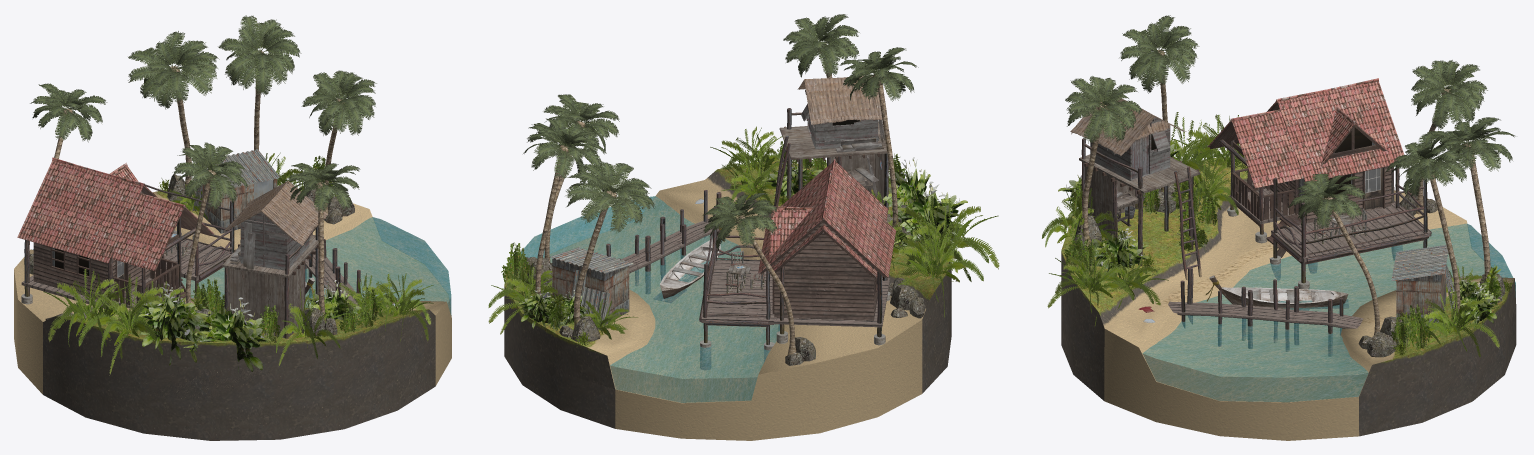
3 views of the same model, side by side, from view 1: azimuth 30°, elevation 25°; view 2: azimuth 150°, elevation 25°; view 3: azimuth 270°, elevation 25° (orthographic). The views are drawn at different scales.
Parts seen in each view (by area): view 1: G_Groundplane, G_House, G_Vegetation, G_WorkshopHut, G_Water, G_Tree6, G_Tree5, G_Tree4, G_Tree2, G_Tree3, G_StorageShed, G_Tree1 (+2 smaller); view 2: G_Groundplane, G_House, G_Water, G_Vegetation, G_WorkshopHut, G_Tree6, G_Tree5, G_Tree1, G_Tree2, G_StorageShed, G_Tree3, G_Rocks (+4 smaller); view 3: G_Groundplane, G_House, G_Water, G_Vegetation, G_WorkshopHut, G_Bridge, G_Tree3, G_Tree2, G_Tree1, G_Tree5, G_StorageShed, G_Tree4 (+4 smaller).
Part boxes in pixels (box(x1,y1,x2,y2)): G_Groundplane: box(14, 189, 451, 440); G_House: box(17, 157, 234, 309); G_Vegetation: box(43, 152, 433, 375); G_WorkshopHut: box(222, 180, 324, 338); G_Water: box(33, 217, 451, 315); G_Tree6: box(128, 31, 219, 198); G_Tree5: box(218, 15, 301, 150); G_Tree4: box(301, 70, 376, 213); G_Tree2: box(172, 142, 247, 303); G_Tree3: box(287, 163, 360, 321); G_StorageShed: box(202, 149, 280, 233); G_Tree1: box(30, 83, 107, 158); G_Groundplane: box(504, 160, 951, 440); G_House: box(699, 159, 896, 369); G_Water: box(511, 196, 779, 402); G_Vegetation: box(488, 126, 999, 346); G_WorkshopHut: box(779, 76, 888, 209); G_Tree6: box(565, 161, 655, 327); G_Tree5: box(523, 118, 606, 295); G_Tree1: box(702, 193, 796, 355); G_Tree2: box(839, 47, 918, 227); G_StorageShed: box(549, 247, 633, 324); G_Tree3: box(783, 14, 859, 78); G_Rocks: box(519, 205, 925, 365); G_Groundplane: box(1061, 157, 1516, 440); G_House: box(1207, 78, 1431, 310); G_Water: box(1142, 223, 1515, 402); G_Vegetation: box(1042, 112, 1513, 358); G_WorkshopHut: box(1076, 98, 1200, 265); G_Bridge: box(1168, 267, 1363, 356); G_Tree3: box(1065, 76, 1142, 250); G_Tree2: box(1119, 15, 1199, 191); G_Tree1: box(1411, 60, 1487, 214); G_Tree5: box(1385, 133, 1469, 326); G_StorageShed: box(1391, 245, 1448, 325); G_Tree4: box(1288, 174, 1380, 334).
Bounding box in the file's own units: 18.66 × 11.84 × 18.85.
Materials: 34 (34 with a texture image).
